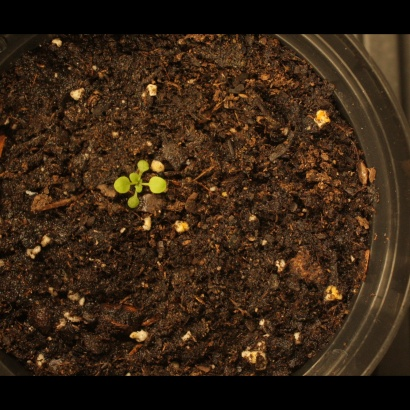leaf: (147, 174, 170, 197), (137, 149, 160, 172), (122, 196, 145, 219), (107, 175, 130, 198), (127, 173, 150, 196)
